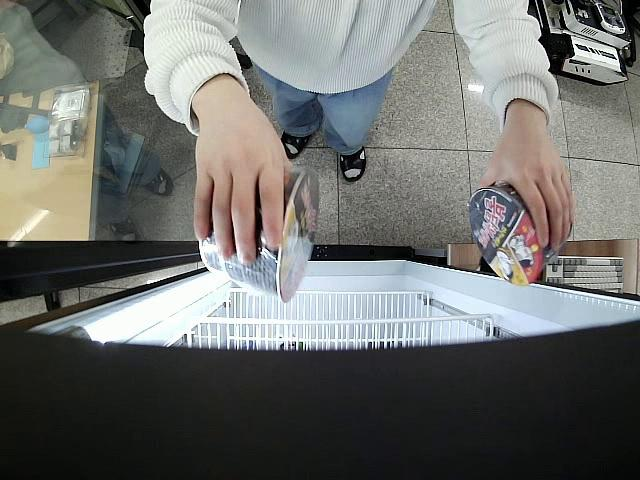00_hand: (190, 92, 292, 269), (479, 115, 575, 255)
07_buldak_L: (200, 168, 322, 301), (468, 178, 571, 284)
